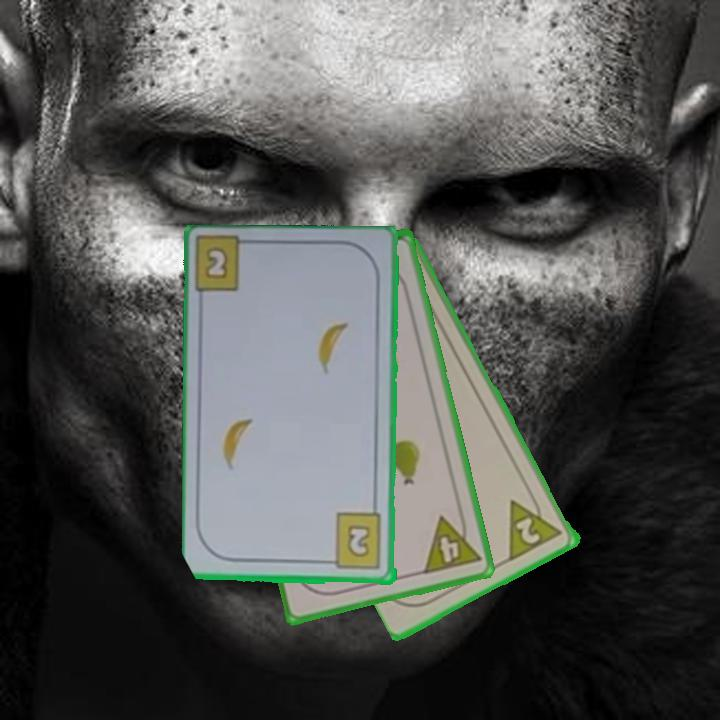2b: (323, 511, 385, 572), (202, 243, 231, 282)
2p: (512, 514, 544, 547)
4p: (419, 508, 484, 577)
